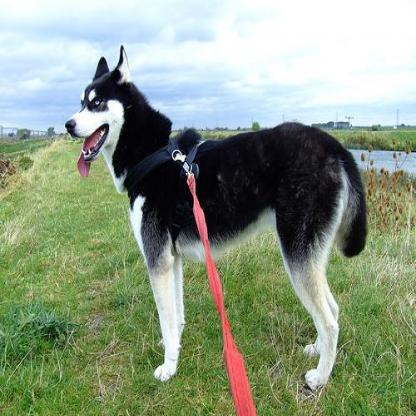Eskimo_dog: (63, 42, 369, 393)
